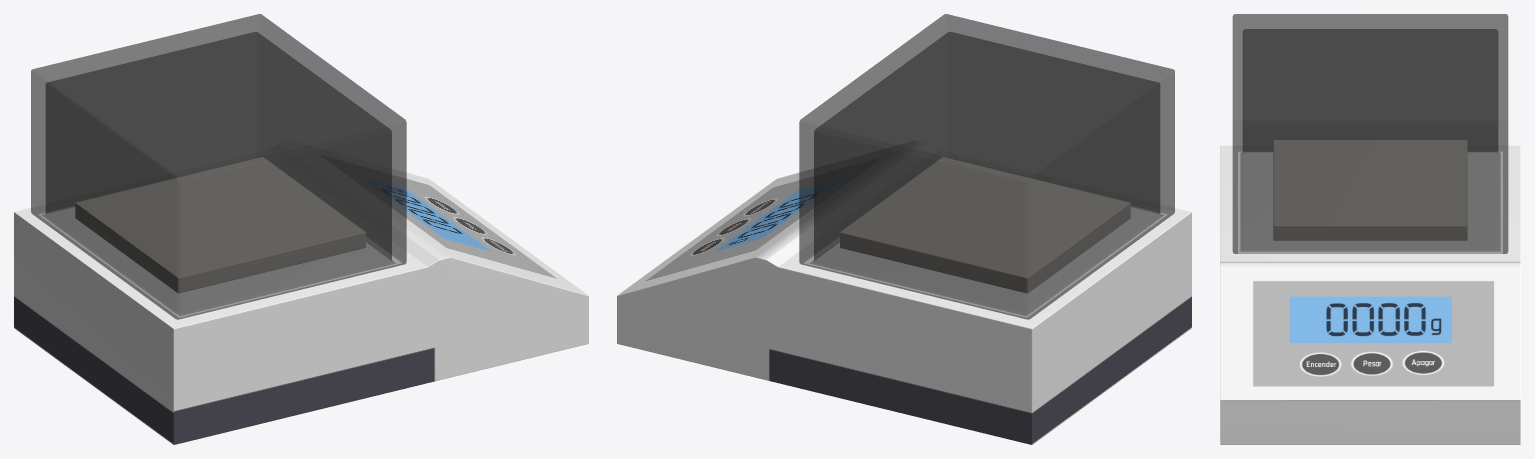
The model's file is Balanza.glb.
3 renders of one model, left to right at view 1: azimuth 30°, elevation 25°; view 2: azimuth 150°, elevation 25°; view 3: azimuth 270°, elevation 25°, orthographic. The views are drawn at different scales.
Visible parts, largest first — view 1: Balanza; view 2: Balanza; view 3: Balanza.
Boxes of the visible parts, x1,y1,x2,y2 form: Balanza: (14,14,588,444); Balanza: (617,14,1191,444); Balanza: (1220,14,1520,444).
Size of the model in its own units: 2.64 by 1.59 by 1.76.
Materials: 3 (2 with a texture image).
